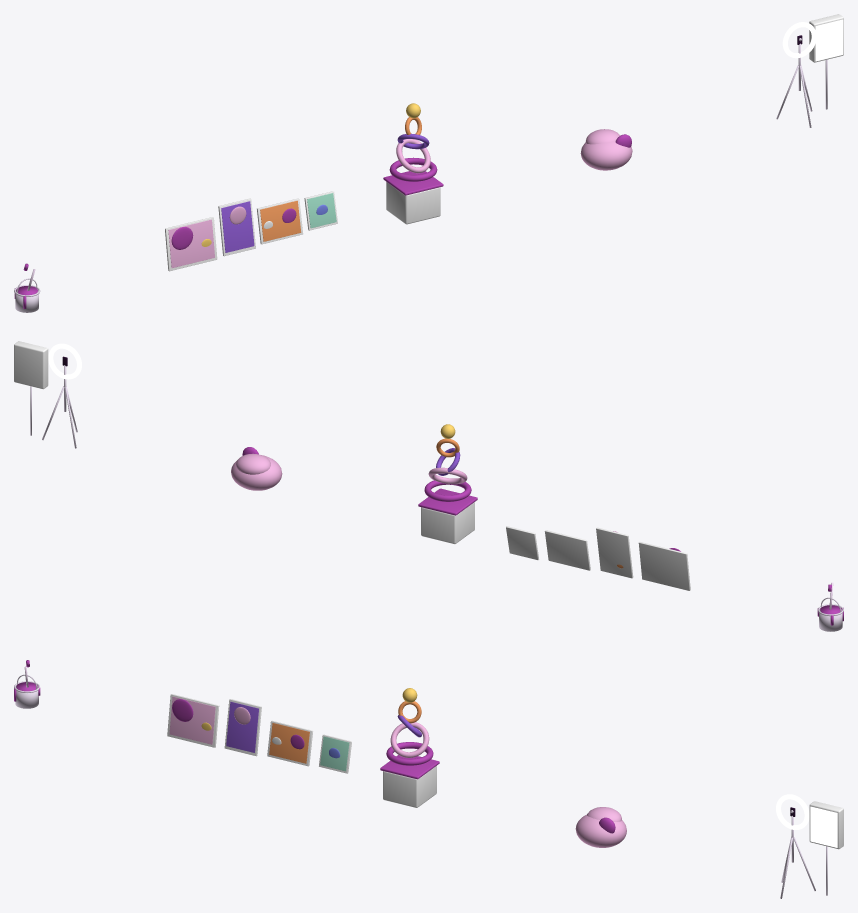
File: creative_a.glb
3 views of the same model, one above another, from view 1: azimuth 30°, elevation 25°; view 2: azimuth 150°, elevation 25°; view 3: azimuth 330°, elevation 25° (orthographic).
Parts seen in each view (by area): view 1: Plinth, Paint0, BagBody, Paint1, Paint2, SoftFace, Paint3, PlinthCap, Ring0, Canvas0; view 2: Canvas0, Plinth, SoftBox, Canvas1, Canvas2, BagBody, Canvas3, PlinthCap, BagTop; view 3: Plinth, Paint0, Paint1, BagBody, Paint2, SoftFace, Paint3, PlinthCap, Ring0, Ring1, SoftBox, Canvas0 (+1 smaller).
Part boxes in pixels (left/top/right/bottom): Plinth: left=386, top=182, right=440, bottom=224; Paint0: left=168, top=219, right=214, bottom=267; BagBody: left=580, top=140, right=632, bottom=170; Paint1: left=221, top=201, right=254, bottom=252; Paint2: left=260, top=200, right=301, bottom=241; SoftFace: left=815, top=19, right=843, bottom=61; Paint3: left=307, top=193, right=336, bottom=228; PlinthCap: left=383, top=171, right=443, bottom=195; Ring0: left=389, top=157, right=437, bottom=181; Canvas0: left=165, top=217, right=217, bottom=271; Canvas0: left=638, top=542, right=690, bottom=590; Plinth: left=421, top=502, right=474, bottom=544; SoftBox: left=14, top=341, right=48, bottom=389; Canvas1: left=596, top=527, right=633, bottom=578; Canvas2: left=544, top=530, right=590, bottom=570; BagBody: left=231, top=455, right=282, bottom=490; Canvas3: left=506, top=526, right=538, bottom=560; PlinthCap: left=418, top=488, right=477, bottom=515; BagTop: left=236, top=453, right=270, bottom=474; Plinth: left=383, top=766, right=436, bottom=807; Paint0: left=169, top=696, right=215, bottom=744; Paint1: left=226, top=701, right=258, bottom=752; BagBody: left=575, top=814, right=626, bottom=847; Paint2: left=269, top=723, right=309, bottom=763; SoftFace: left=810, top=806, right=837, bottom=847; Paint3: left=320, top=736, right=349, bottom=771; PlinthCap: left=380, top=755, right=439, bottom=779; Ring0: left=386, top=742, right=433, bottom=765; Ring1: left=390, top=722, right=429, bottom=757; SoftBox: left=809, top=801, right=843, bottom=849; Canvas0: left=167, top=694, right=219, bottom=747.
Bounding box in the file's own units: 25.78 × 3.28 × 1.3.
